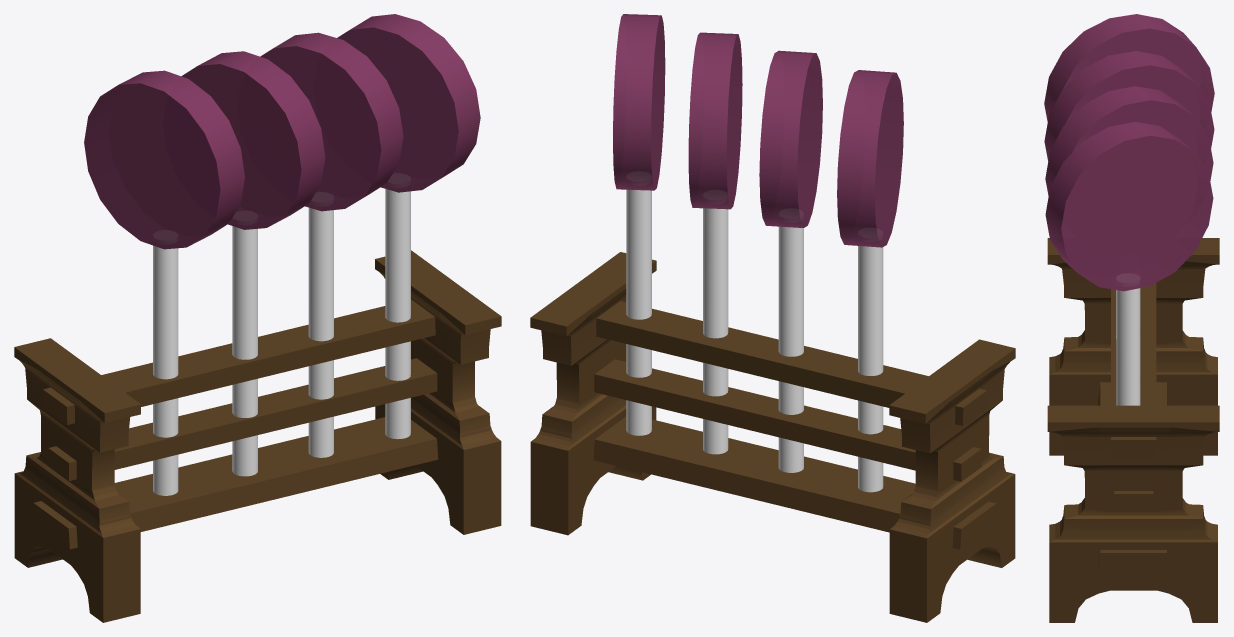
File: Piruleta y Mesa.fbx
3 views of the same model, side by side, from view 1: azimuth 30°, elevation 25°; view 2: azimuth 150°, elevation 25°; view 3: azimuth 270°, elevation 25° (orthographic). The views are drawn at different scales.
Parts seen in each view (by area): view 1: Box005, Piruleta, Piruleta001, Piruleta002, Piruleta003, PaloPiruleta, PaloPiruleta003, PaloPiruleta002, PaloPiruleta001; view 2: Box005, Piruleta, Piruleta001, Piruleta002, Piruleta003, PaloPiruleta003, PaloPiruleta001, PaloPiruleta002, PaloPiruleta; view 3: Box005, Piruleta003, Piruleta, Piruleta001, Piruleta002, PaloPiruleta003.
Part boxes in pixels (box(x1,y1,x2,y2)): Box005: box(14, 250, 501, 622); Piruleta: box(84, 70, 244, 249); Piruleta001: box(181, 51, 325, 229); Piruleta002: box(260, 32, 403, 211); Piruleta003: box(337, 14, 480, 192); PaloPiruleta: box(153, 245, 178, 495); PaloPiruleta003: box(385, 189, 410, 439); PaloPiruleta002: box(308, 207, 333, 457); PaloPiruleta001: box(232, 226, 257, 476); Box005: box(530, 252, 1015, 622); Piruleta: box(837, 70, 903, 247); Piruleta001: box(759, 50, 822, 227); Piruleta002: box(688, 32, 742, 209); Piruleta003: box(613, 14, 665, 190); PaloPiruleta003: box(626, 189, 651, 435); PaloPiruleta001: box(778, 226, 803, 472); PaloPiruleta002: box(703, 208, 728, 454); PaloPiruleta: box(858, 246, 883, 492); Box005: box(1047, 238, 1219, 622); Piruleta003: box(1045, 121, 1213, 291); Piruleta: box(1044, 14, 1214, 121); Piruleta001: box(1044, 51, 1214, 160); Piruleta002: box(1045, 86, 1213, 195); PaloPiruleta003: box(1116, 288, 1140, 405).
Size of the model in its own units: 28.16 by 31.7 by 10.91.
